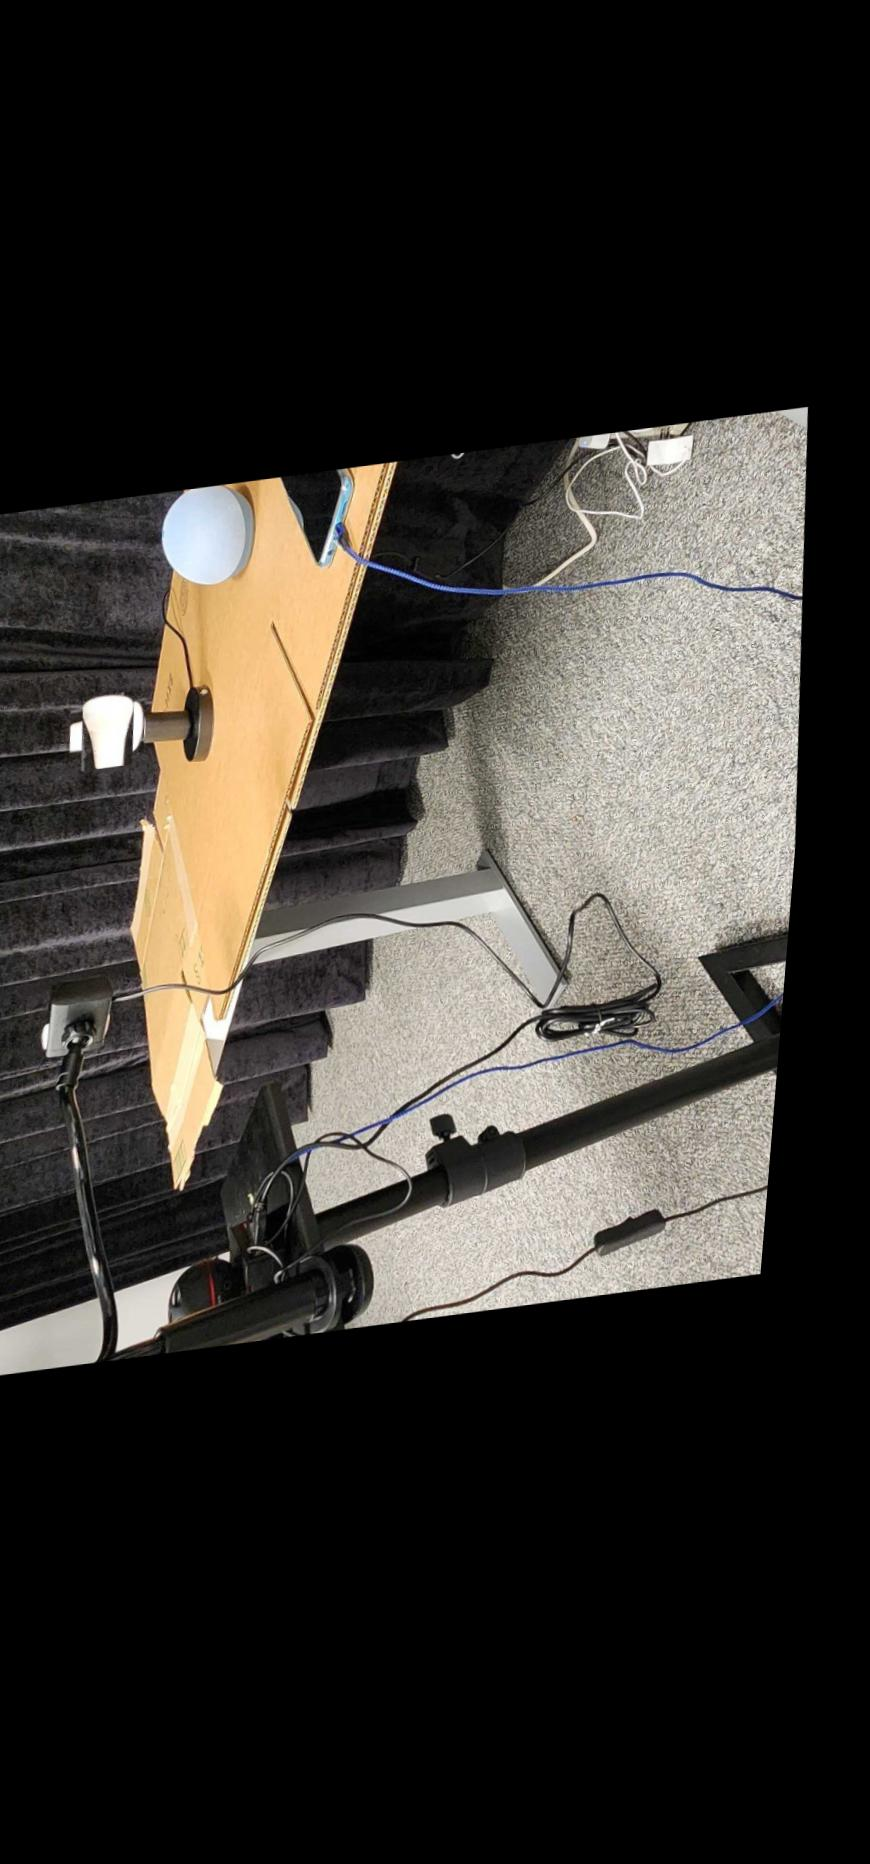Fan: (86, 698, 155, 767)
